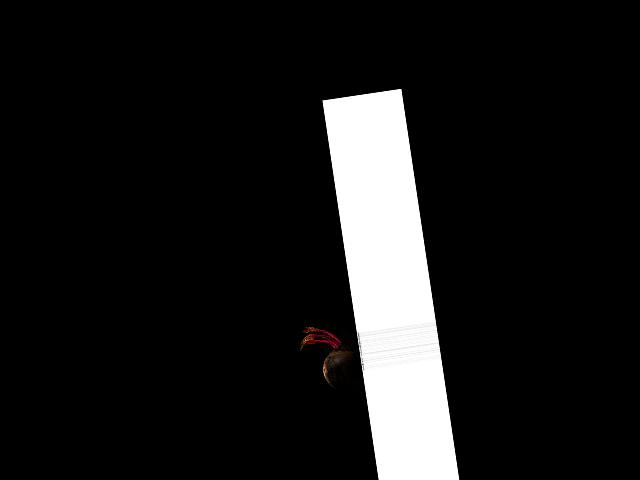beet: (297, 320, 366, 406)
